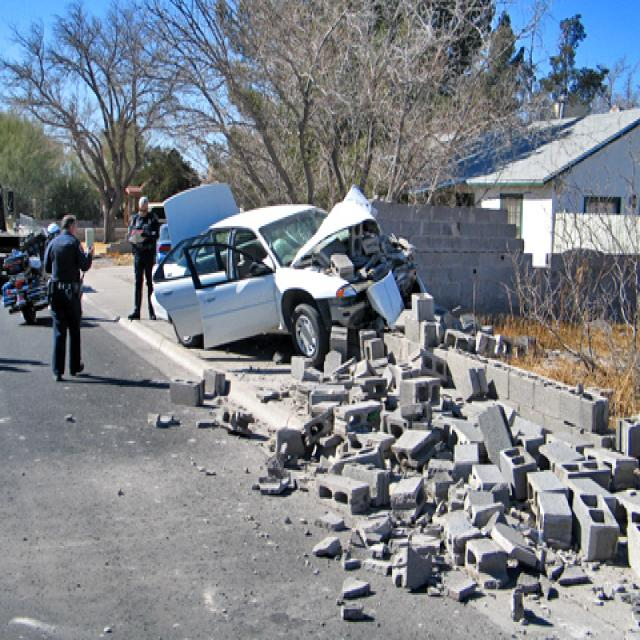crush: (291, 185, 417, 336)
